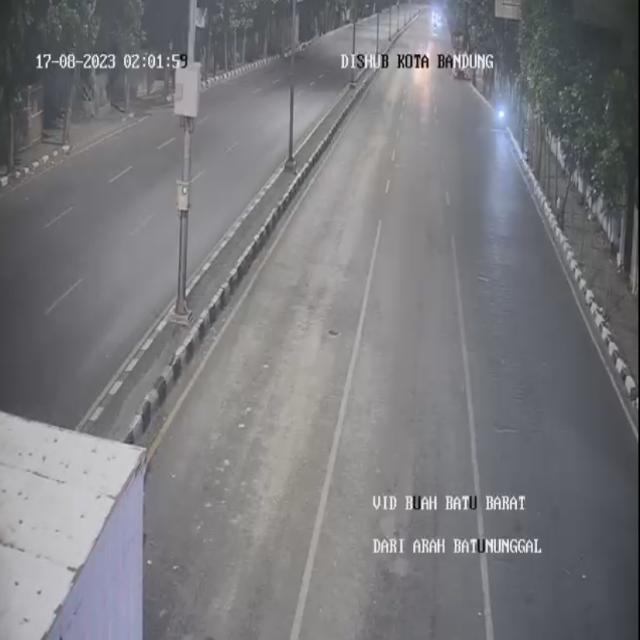motorcycle: (497, 92, 505, 128)
truck: (0, 411, 145, 640)
